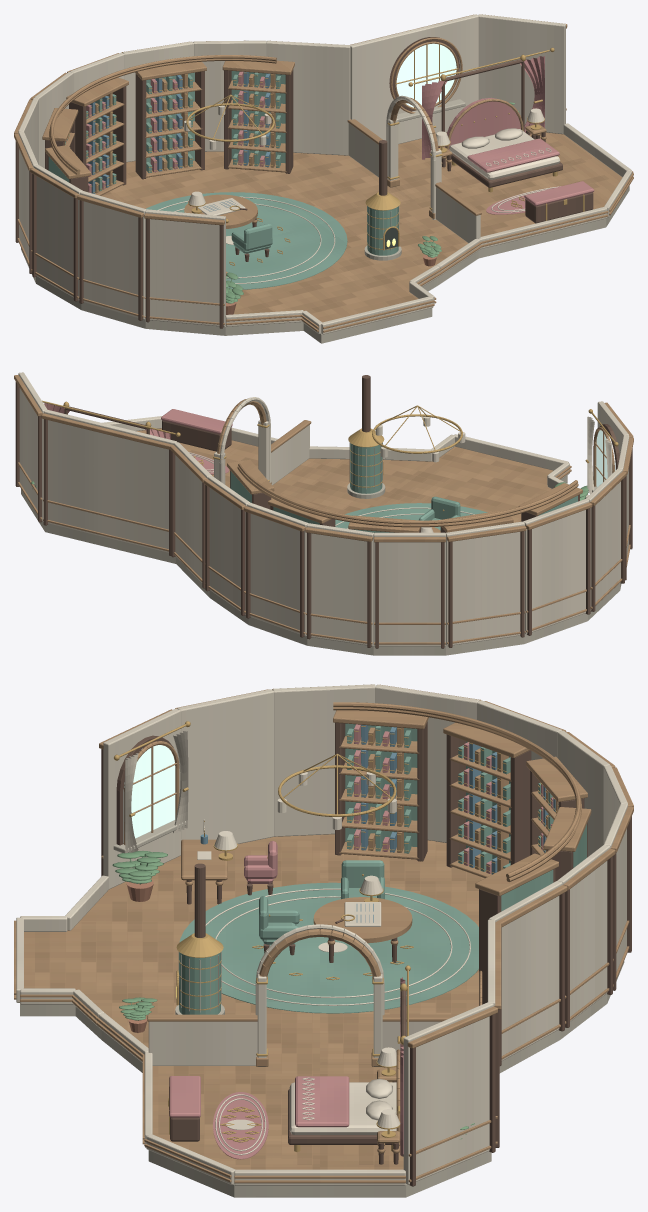
File: neighbor2-interior.glb
3 renders of one model, top to bottom at view 1: azimuth 30°, elevation 25°; view 2: azimuth 150°, elevation 25°; view 3: azimuth 270°, elevation 25°, orthographic. The views are drawn at different scales.
Parts seen in each view (by area): view 1: Forest hamlet; view 2: Forest hamlet; view 3: Forest hamlet.
Part boxes in pixels (bbox=[...]): Forest hamlet: bbox=[14, 14, 633, 343]; Forest hamlet: bbox=[14, 372, 633, 655]; Forest hamlet: bbox=[14, 684, 633, 1197].
Size of the model in its own units: 19.88 by 5.36 by 14.46.
18 materials, 18 textured.
